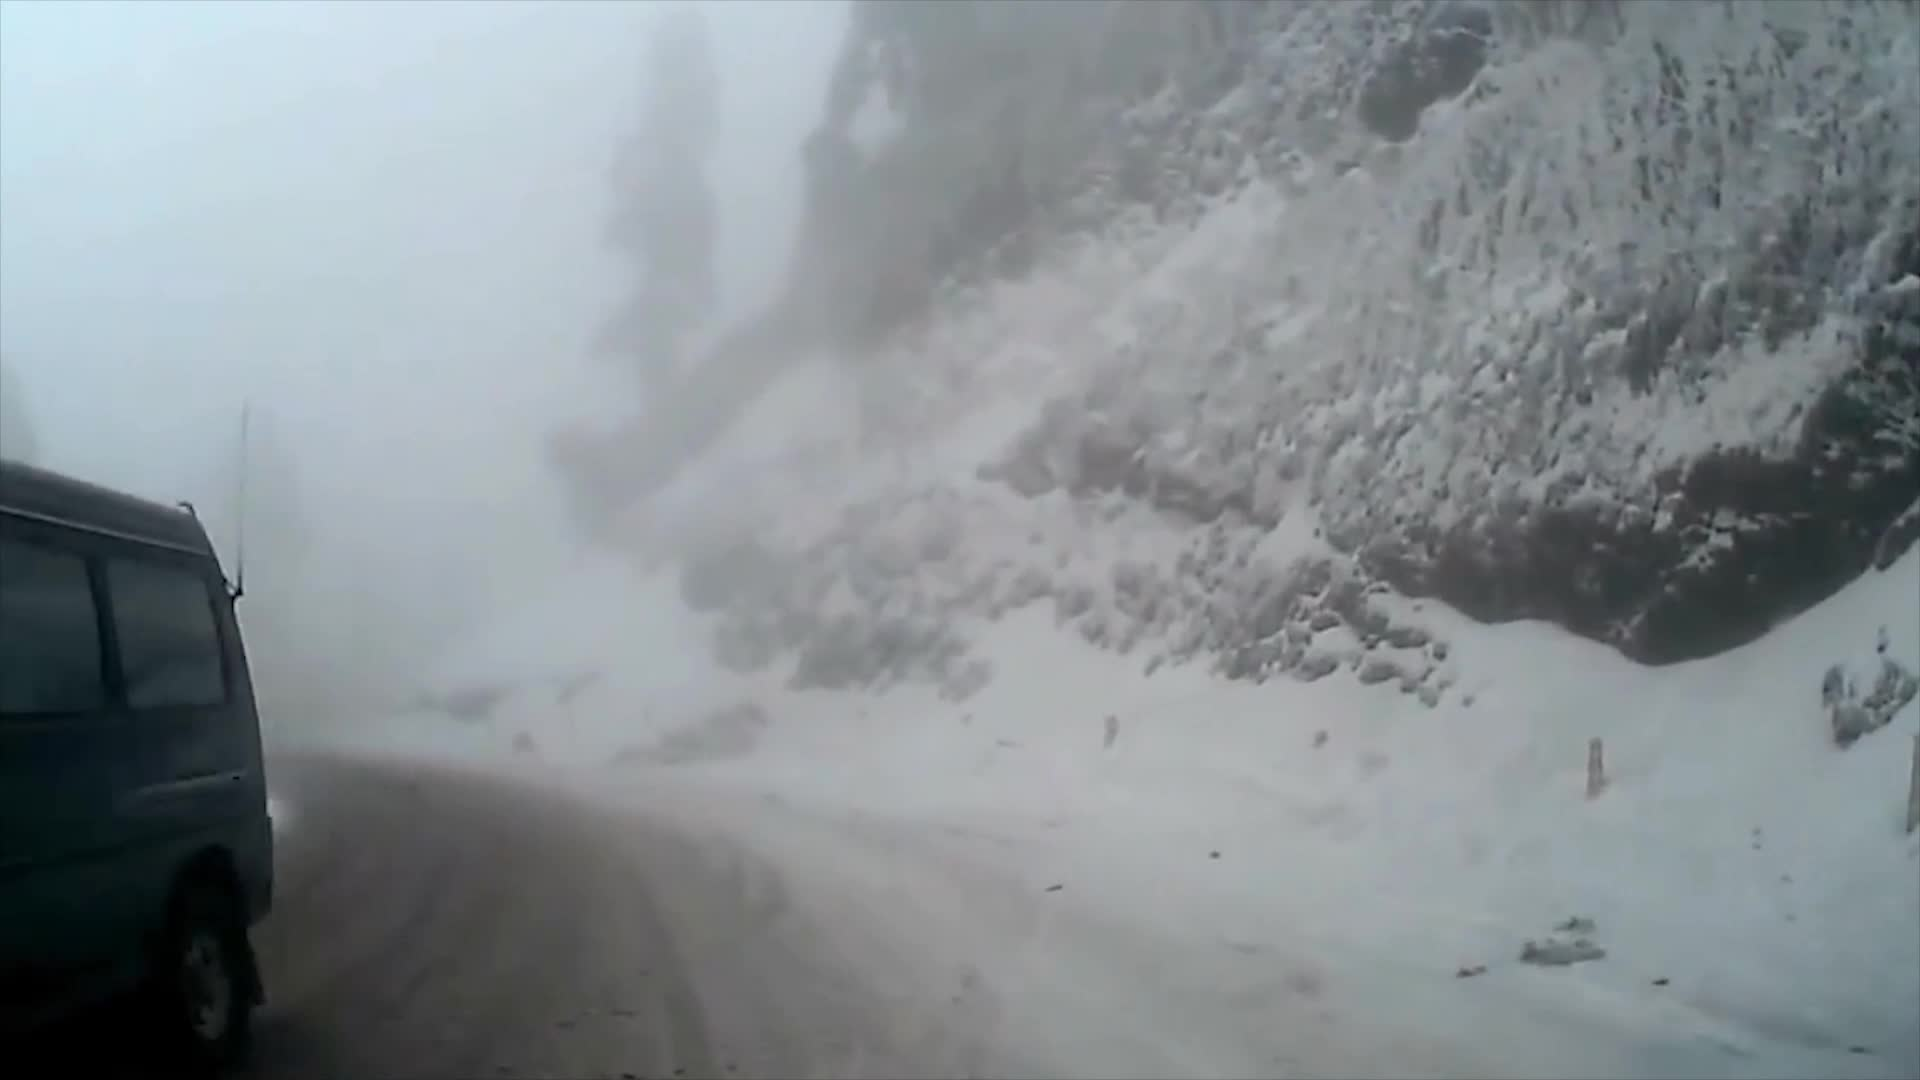vehicle: (0, 458, 272, 1080)
